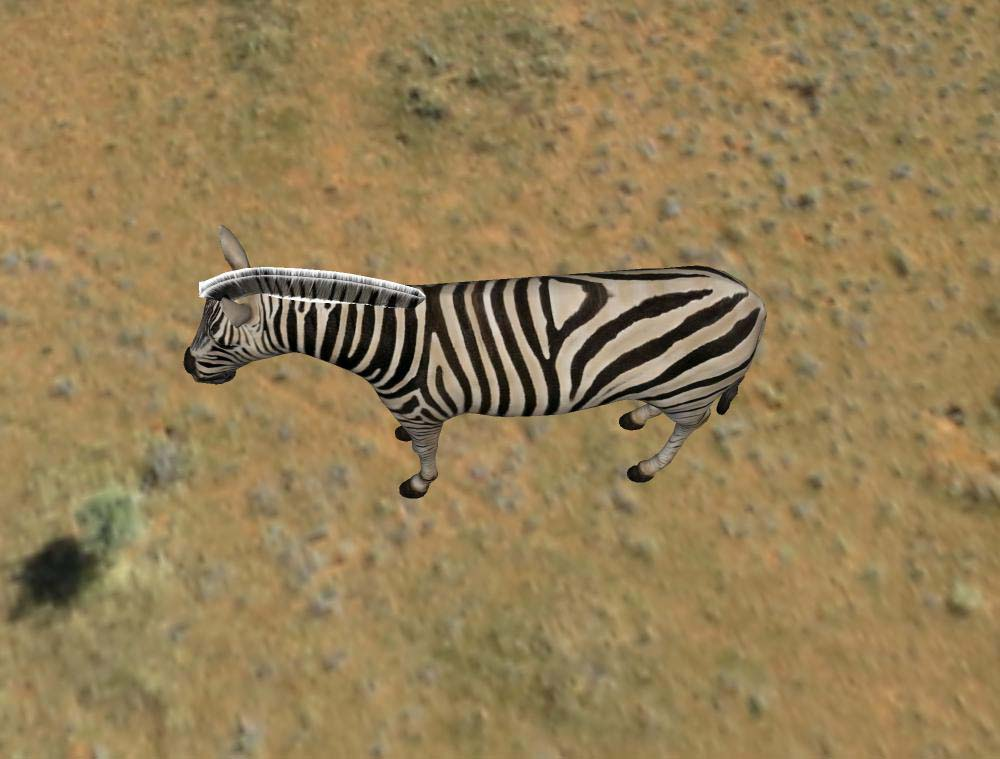zebra: (182, 219, 771, 497)
